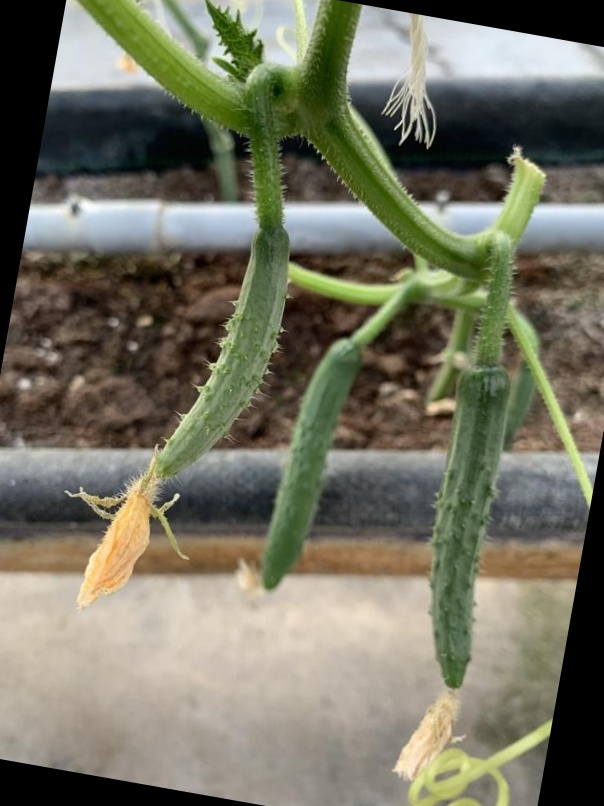bear: (53, 205, 309, 622), (389, 356, 524, 777)
growth: (249, 338, 367, 596)
